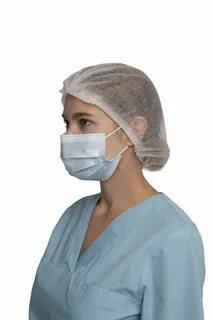hairnet: (57, 57, 188, 184)
mask: (59, 125, 122, 212)
